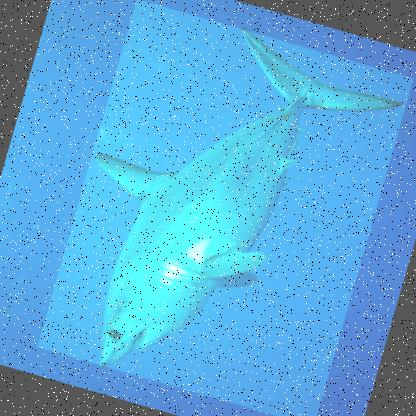mako-shark: (37, 0, 415, 416)
